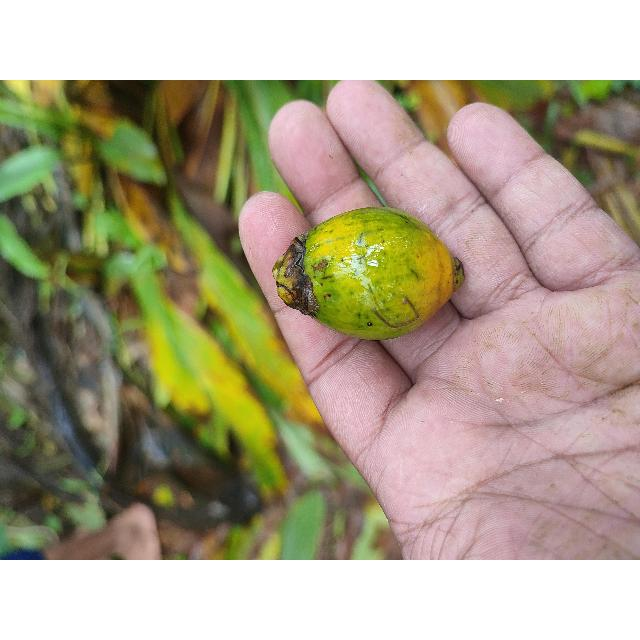damaged: (279, 207, 463, 342)
